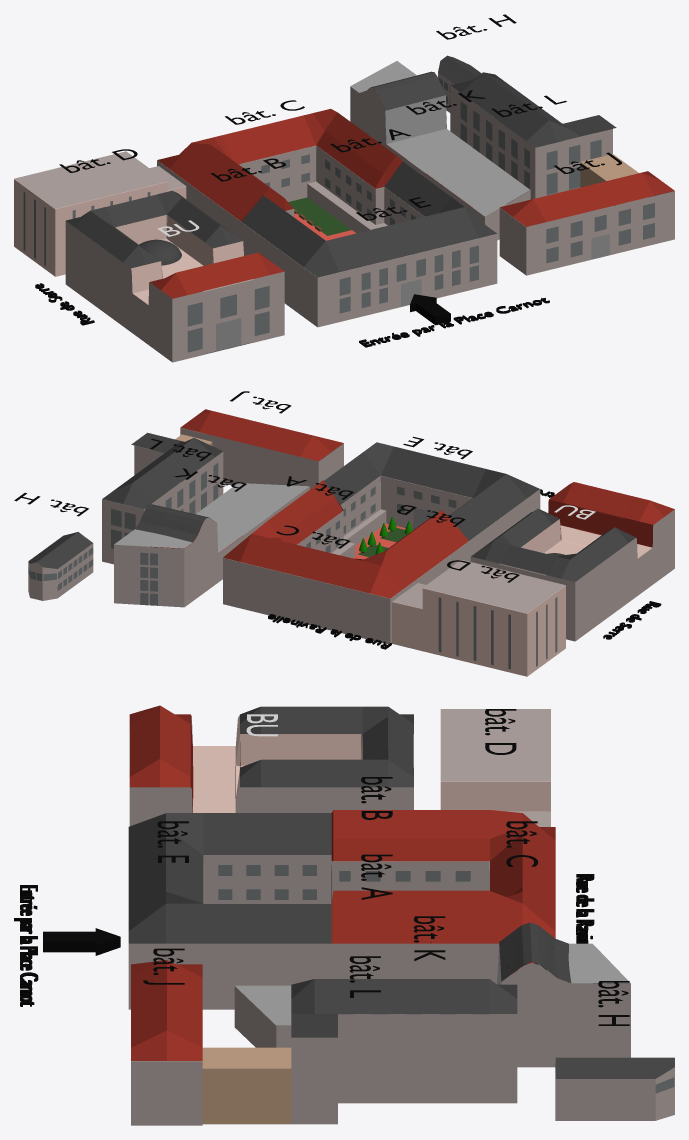
Rendered from bat9.glb.
3 renders of one model, top to bottom at view 1: azimuth 30°, elevation 25°; view 2: azimuth 150°, elevation 25°; view 3: azimuth 270°, elevation 25°, orthographic. The views are drawn at different scales.
Parts seen in each view (by area): view 1: toits, Bâtiment principal, Cube.001, Cube.005, Cube.006, Cube, Cube.004, sol fac, Geny.009, Cube.003; view 2: toits, Bâtiment principal, Cube, Cube.004, Cube.001, Cube.006, Cube.005, Cube.007, sol fac, Geny.011, Geny.012; view 3: toits, Cube.006, Bâtiment principal, Cube.004, Cube.001, Cube.007, Cube.005, Cube, Cube.003, Geny.009, Geny.011.
Boxes of the visible parts, x1,y1,x2,y2 form: toits: [14, 55, 674, 304]; Bâtiment principal: [157, 145, 497, 327]; Cube.001: [65, 221, 284, 362]; Cube.005: [499, 191, 674, 275]; Cube.006: [450, 86, 647, 205]; Cube: [14, 179, 186, 276]; Cube.004: [350, 86, 530, 240]; sol fac: [288, 197, 355, 240]; Geny.009: [359, 298, 549, 347]; Cube.003: [410, 294, 450, 325]; toits: [28, 409, 674, 613]; Bâtiment principal: [223, 475, 540, 644]; Cube: [392, 585, 565, 676]; Cube.004: [114, 486, 309, 607]; Cube.001: [470, 500, 674, 641]; Cube.006: [102, 434, 223, 564]; Cube.005: [180, 427, 343, 489]; Cube.007: [28, 543, 93, 600]; sol fac: [353, 516, 412, 559]; Geny.011: [268, 614, 391, 649]; Geny.012: [603, 601, 661, 639]; toits: [128, 705, 674, 1078]; Cube.006: [197, 1014, 517, 1124]; Bâtiment principal: [128, 855, 498, 1009]; Cube.004: [234, 962, 630, 1067]; Cube.001: [129, 714, 413, 826]; Cube.007: [555, 1058, 674, 1120]; Cube.005: [131, 1061, 202, 1125]; Cube: [440, 781, 550, 811]; Cube.003: [43, 928, 120, 955]; Geny.009: [14, 885, 38, 1006]; Geny.011: [576, 874, 594, 943].
Bounding box in the file's own units: 18.88 × 2.69 × 14.54.
